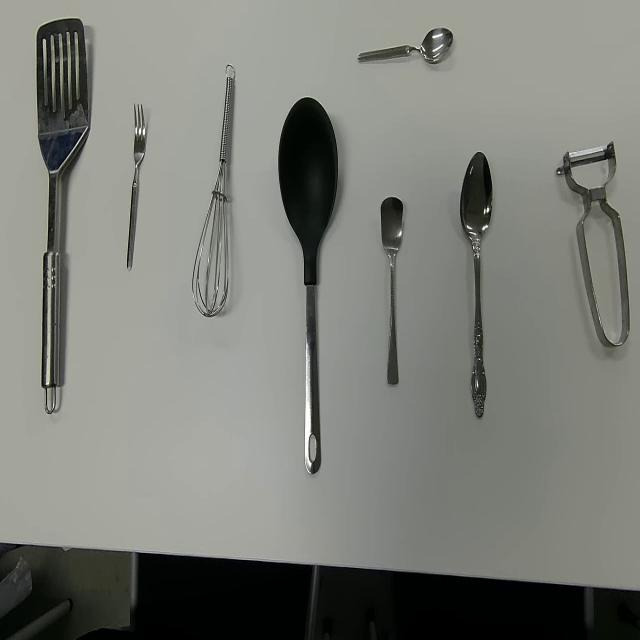Desert-Spoon: (459, 150, 493, 422)
Dinner-Fork: (125, 102, 146, 274)
Peeler: (556, 139, 630, 350)
Serving-Spoon: (277, 96, 339, 477), (35, 16, 89, 417)
Tea-Spoon: (380, 196, 404, 387), (357, 26, 454, 65)
Whisk: (191, 62, 236, 318)
